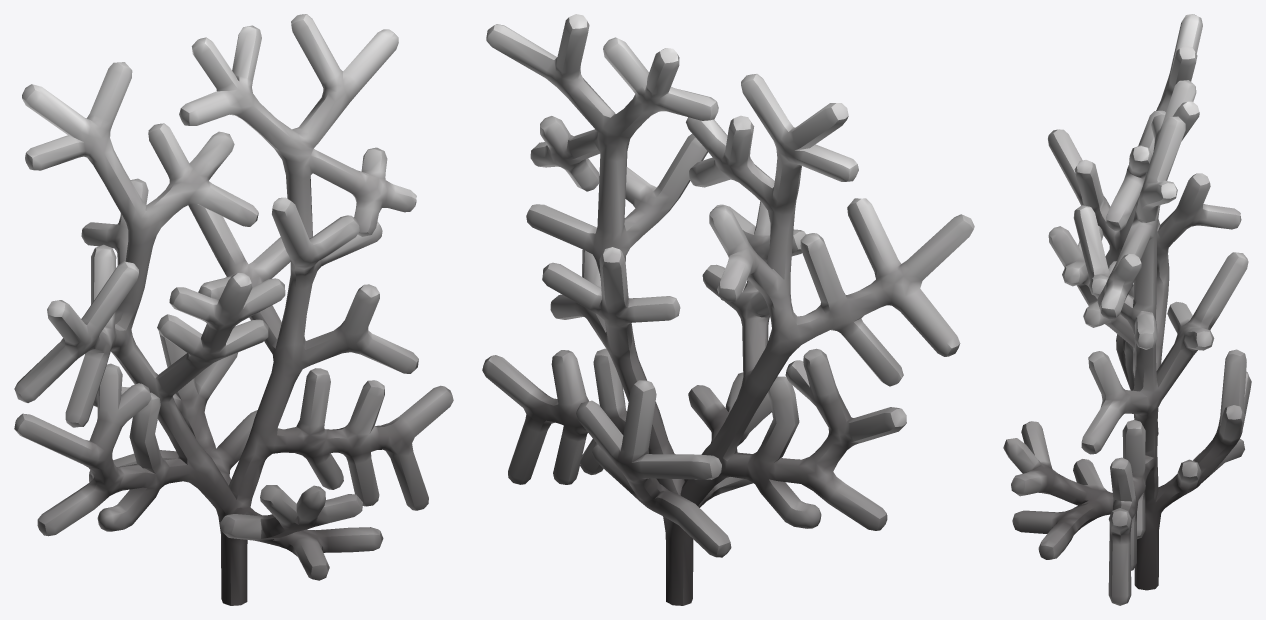
Rendered from gorgona-ventalina.glb.
The picture shows the model from 3 angles, left to right: view 1: azimuth 30°, elevation 25°; view 2: azimuth 150°, elevation 25°; view 3: azimuth 270°, elevation 25°; orthographic projection. The views are drawn at different scales.
Visible parts, largest first — view 1: gorgona-ventalina; view 2: gorgona-ventalina; view 3: gorgona-ventalina.
Boxes of the visible parts, x1,y1,x2,y2 form: gorgona-ventalina: (14,14,453,605); gorgona-ventalina: (482,14,974,605); gorgona-ventalina: (1003,14,1251,605).
Size of the model in its own units: 0.3949 by 0.4686 by 0.2087.
1 material, 1 textured.
